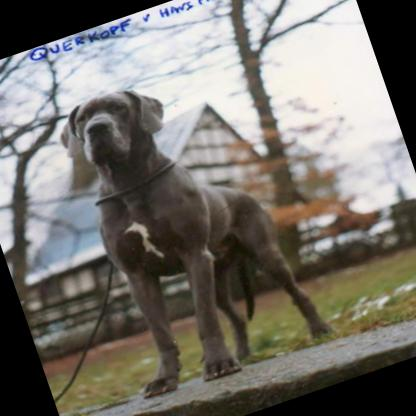Great_Dane: (46, 44, 344, 405)
